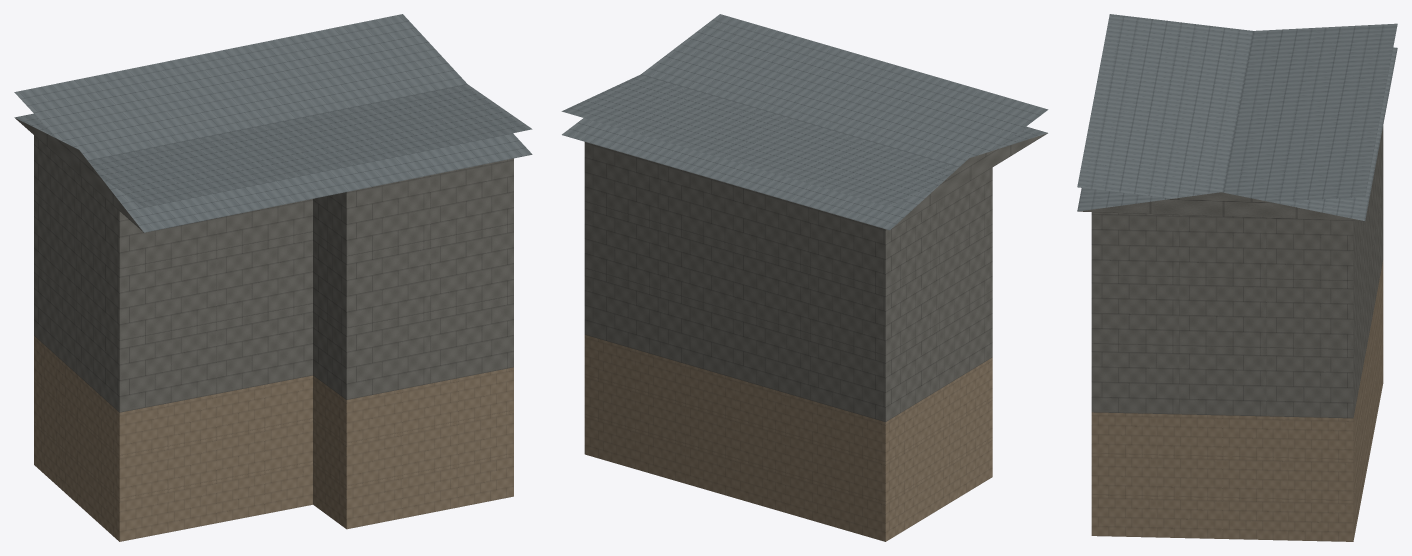
The model's file is bld_c3_18_455.gltf.
3 views of the same model, side by side, from view 1: azimuth 30°, elevation 25°; view 2: azimuth 150°, elevation 25°; view 3: azimuth 270°, elevation 25° (orthographic). The views are drawn at different scales.
Parts seen in each view (by area): view 1: bld_c3_18_455; view 2: bld_c3_18_455; view 3: bld_c3_18_455.
Part boxes in pixels (box(x1,y1,x2,y2)): bld_c3_18_455: box(14, 14, 532, 541); bld_c3_18_455: box(561, 14, 1048, 541); bld_c3_18_455: box(1077, 14, 1397, 541).
Size of the model in its own units: 16.2 by 14.6 by 11.99.
4 materials, 4 textured.
